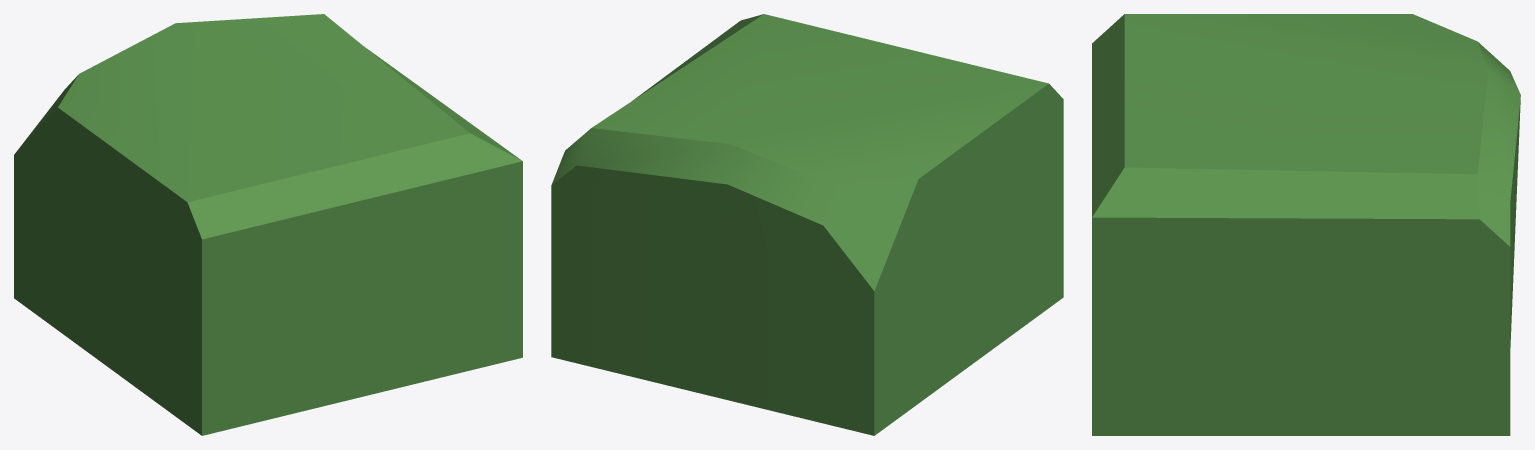
Rendered from parapet corner in.FBX.
3 renders of one model, left to right at view 1: azimuth 30°, elevation 25°; view 2: azimuth 150°, elevation 25°; view 3: azimuth 270°, elevation 25°, orthographic. The views are drawn at different scales.
Visible parts, largest first — view 1: Object354; view 2: Object354; view 3: Object354.
Part boxes in pixels (left/top/right/bottom): Object354: left=14, top=14, right=522, bottom=435; Object354: left=551, top=14, right=1063, bottom=435; Object354: left=1092, top=14, right=1520, bottom=435.
Bounding box in the file's own units: 0.2536 × 0.1853 × 0.264.
